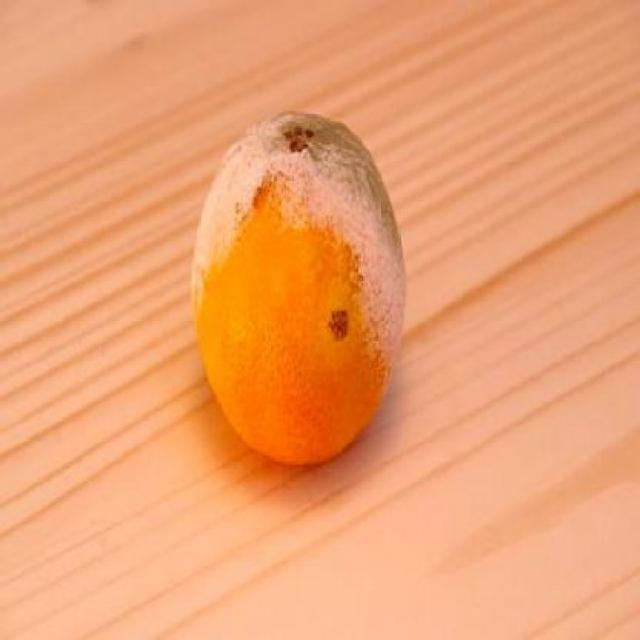Jeruk Sudah Matang: (188, 99, 414, 472)
